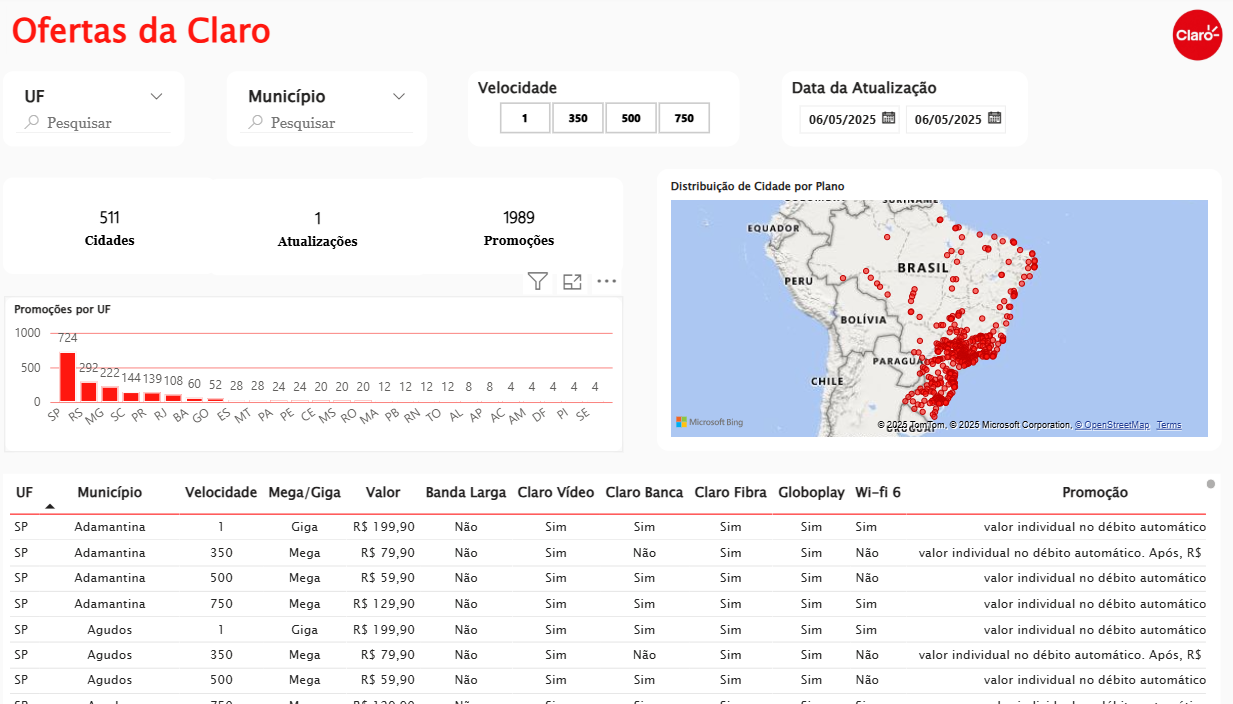

The page's visual inventory and layout, read from the dashboard file:
{"tool":"powerbi","page":{"name":"Ofertas FTTH","canvas":[1280,720],"ordinal":0},"visuals":[{"type":"slicer","fields":{"Values":["Localidade.MUNICIPIO"]},"box":[267.4,74.6,195.7,73.4],"z":0},{"type":"slicer","fields":{"Values":["Localidade.UF"]},"box":[48.9,74.6,177.3,73.4],"z":1000},{"type":"slicer","title":"Data da Atualização","fields":{"Values":["Tabela_Info.DATA"]},"box":[810.7,74.6,240.9,73.4],"z":2000},{"type":"textbox","title":"Ofertas da Claro","box":[52.6,11,381.5,46.5],"z":4000},{"type":"map","title":"Distribuição de Cidade por Plano","fields":{"Y":["Localidade.Latitude"],"X":["Localidade.Longitude"]},"box":[688.5,170,552.7,276.4],"z":5000},{"type":"card","fields":{"Values":["Localidade.Quantidade de Cidades"]},"box":[48.9,178.5,209.1,94.2],"z":6000},{"type":"image","box":[1155.6,0,124.7,78.3],"z":7000},{"type":"tableEx","fields":{"Values":["Localidade.UF","Localidade.MUNICIPIO","Tabela_Info.Velocidade","Tabela_Info.Mega/Giga","Tabela_Info.Valor","Tabela_Info.Banda Larga","Tabela_Info.Claro Vídeo","Tabela_Info.Claro Banca","Tabela_Info.Claro Fibra","Tabela_Info.Globoplay","Tabela_Info.Wi-fi 6","Tabela_Info.valor individual no débito automático"]},"box":[48.9,468.3,1191,242.1],"z":8000},{"type":"actionButton","box":[0,0,100,40],"z":9000},{"type":"card","fields":{"Values":["Medidas.Quantidade de Atualizações"]},"box":[249.5,179.8,215.2,94.2],"z":10000},{"type":"card","fields":{"Values":["Medidas.Quantidade de Ofertas"]},"box":[452.4,178.5,203,94.2],"z":11000},{"type":"columnChart","fields":{"Category":["Localidade.UF"],"Y":["Medidas.Quantidade de Ofertas"]},"box":[50.1,294.7,605.3,152.9],"z":12000},{"type":"slicer","title":"Velocidade","fields":{"Values":["Tabela_Info.Velocidade"]},"box":[504.2,74.6,265.4,73.4],"z":13000}]}

Visuals, with their boxes in screenshot pixels (x1, y1, x2, y2), scaled from the page's 1280x720 canvas onto the 1233x704 screenshot:
slicer - Localidade.MUNICIPIO: 258, 73, 446, 145
slicer - Localidade.UF: 47, 73, 218, 145
"Data da Atualização" slicer: 781, 73, 1013, 145
"Ofertas da Claro" textbox: 51, 11, 418, 56
"Distribuição de Cidade por Plano" map: 663, 166, 1196, 436
card - Localidade.Quantidade de Cidades: 47, 175, 249, 267
image: 1113, 0, 1232, 77
tableEx - Localidade.UF x Localidade.MUNICIPIO: 47, 458, 1194, 695
actionButton: 0, 0, 96, 39
card - Medidas.Quantidade de Atualizações: 240, 176, 448, 268
card - Medidas.Quantidade de Ofertas: 436, 175, 631, 267
columnChart - Localidade.UF x Medidas.Quantidade de Ofertas: 48, 288, 631, 438
"Velocidade" slicer: 486, 73, 741, 145
